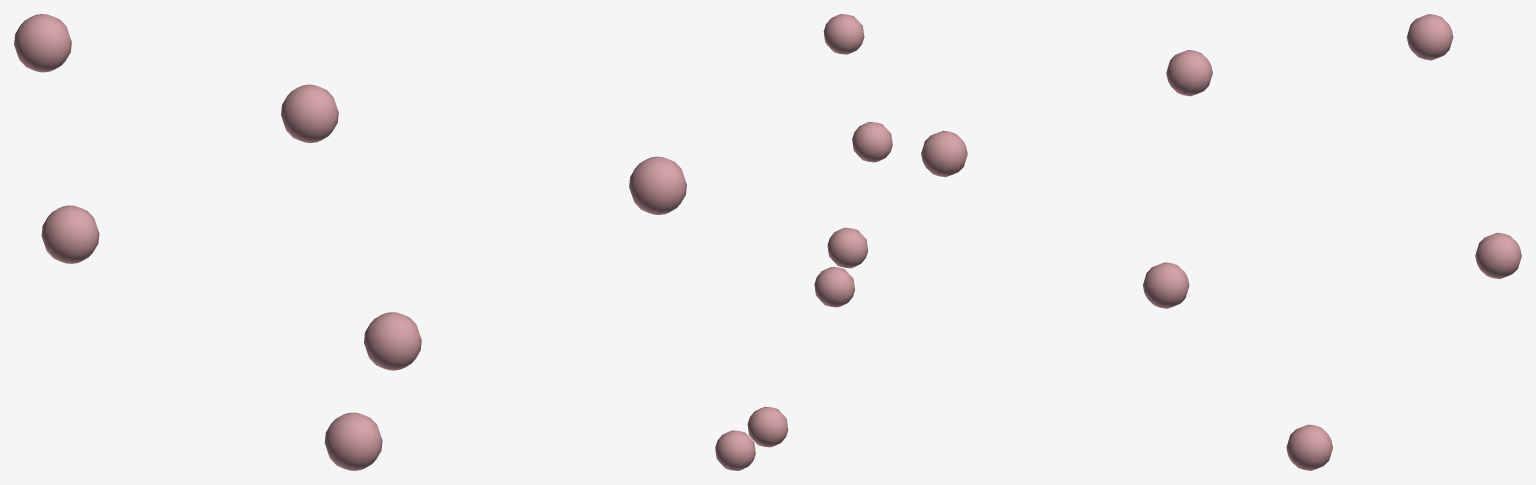
The picture shows the model from 3 angles, left to right: view 1: azimuth 30°, elevation 25°; view 2: azimuth 150°, elevation 25°; view 3: azimuth 270°, elevation 25°; orthographic projection. The views are drawn at different scales.
Parts seen in each view (by area): view 1: ZA_dae126eee935ef8b; view 2: ZA_dae126eee935ef8b; view 3: ZA_dae126eee935ef8b.
Boxes of the visible parts, left/top/right/bottom form: ZA_dae126eee935ef8b: left=14, top=14, right=686, bottom=470; ZA_dae126eee935ef8b: left=715, top=14, right=892, bottom=470; ZA_dae126eee935ef8b: left=921, top=14, right=1521, bottom=470.
Size of the model in its own units: 0.0184 by 0.0228 by 0.0335.
